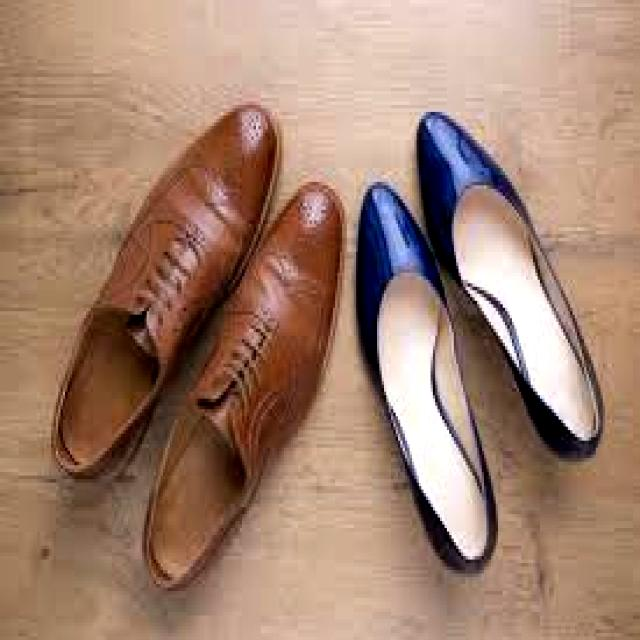foot-wear: (52, 105, 279, 482), (140, 189, 347, 593), (420, 110, 603, 462), (358, 183, 498, 574)
